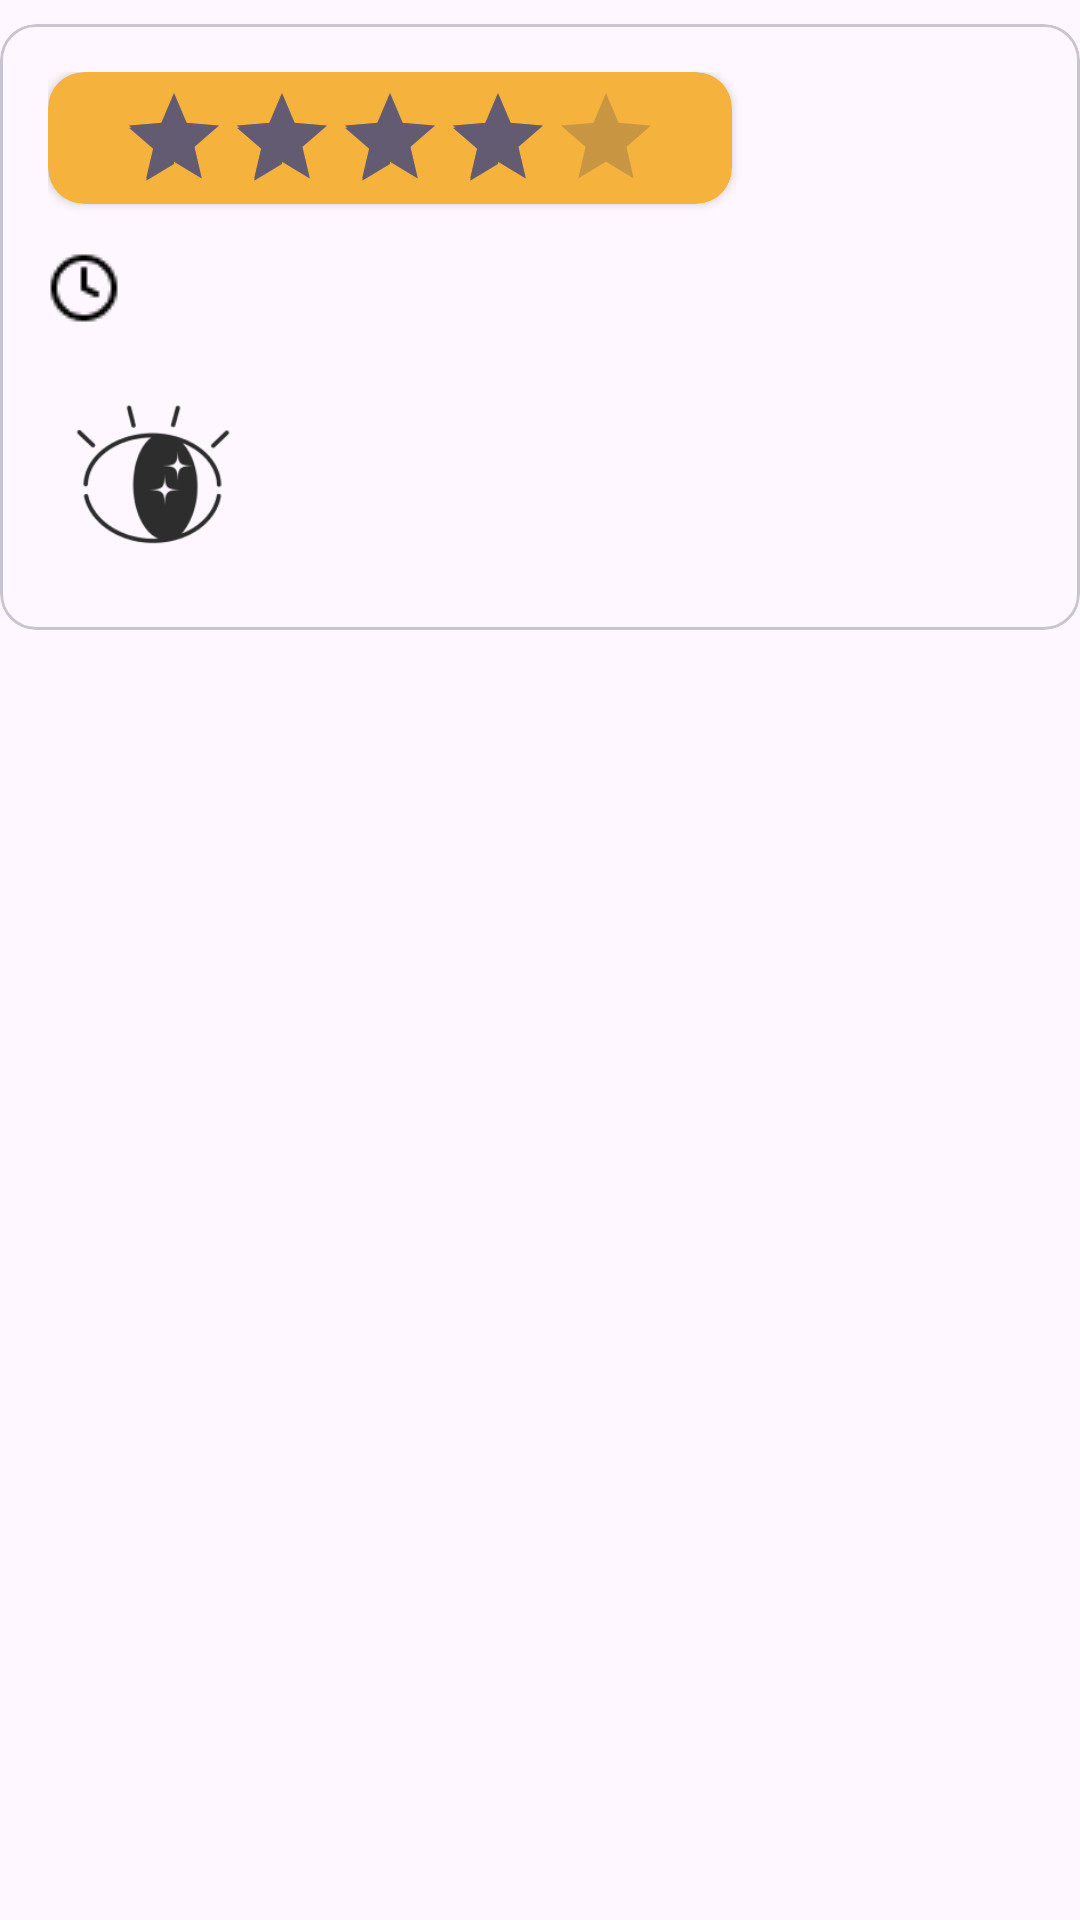

Icon click points for this 1080 × 1920 phone screenshot, format (x=x, y=y):
Icono de reloj: (x=84, y=288)
open eye: (x=153, y=474)
